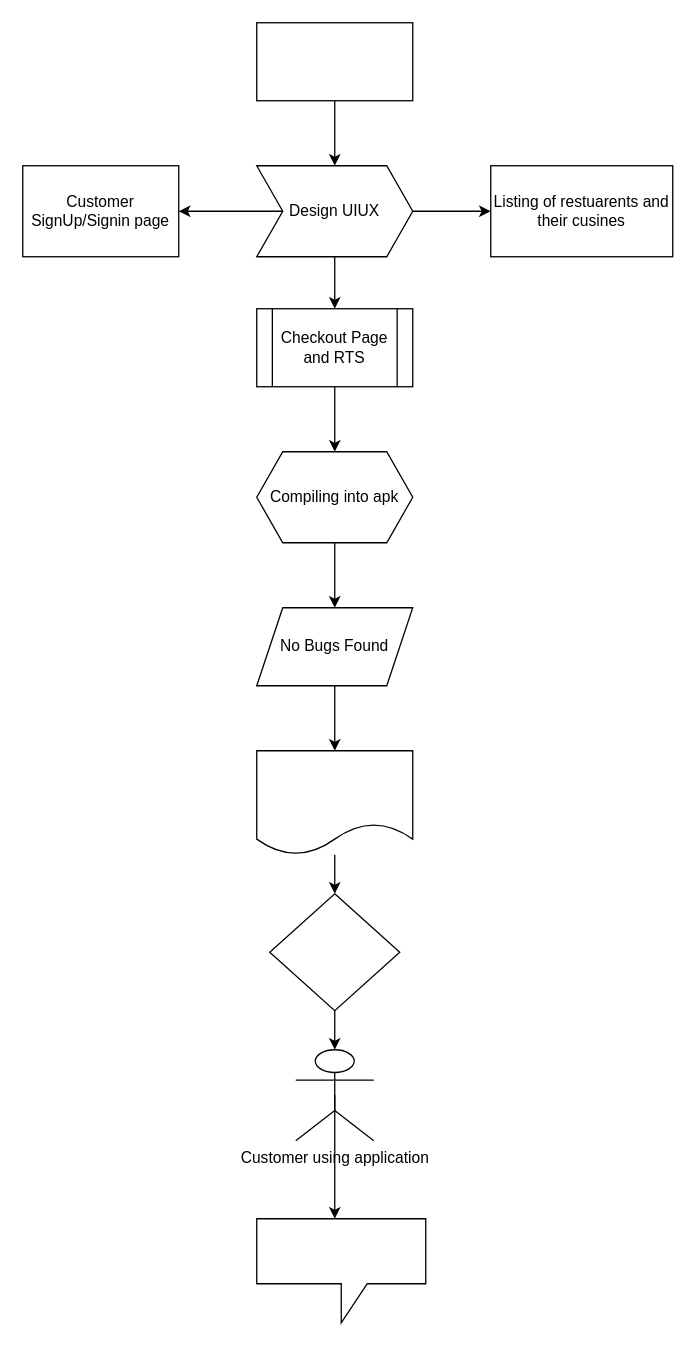
Image size: 696x1346. Some labels were removed from this diagram. Here are the shapes that lost their labels. From the top down, the centre of each, then its label:
point (334, 61): ZK Eats
point (334, 802): Writing Permissions For Deployment
point (334, 951): Releasing into appstore
point (340, 1270): No Feedback Received
